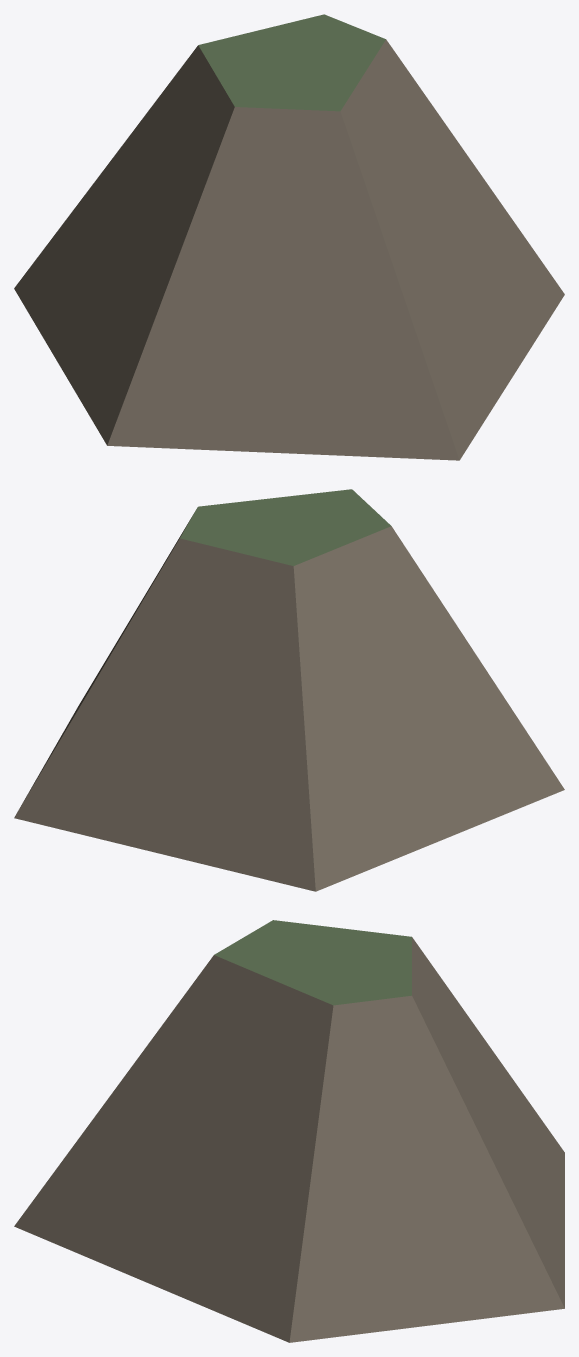
Rendered from boulder.glb.
3 renders of one model, top to bottom at view 1: azimuth 30°, elevation 25°; view 2: azimuth 150°, elevation 25°; view 3: azimuth 270°, elevation 25°, orthographic. The views are drawn at different scales.
Parts seen in each view (by area): view 1: rock_smallA; view 2: rock_smallA; view 3: rock_smallA.
Boxes of the visible parts, <box> form: rock_smallA: <box>14,14,564,460</box>; rock_smallA: <box>14,489,564,891</box>; rock_smallA: <box>14,920,564,1342</box>.
Size of the model in its own units: 0.3608 by 0.1912 by 0.3608.
